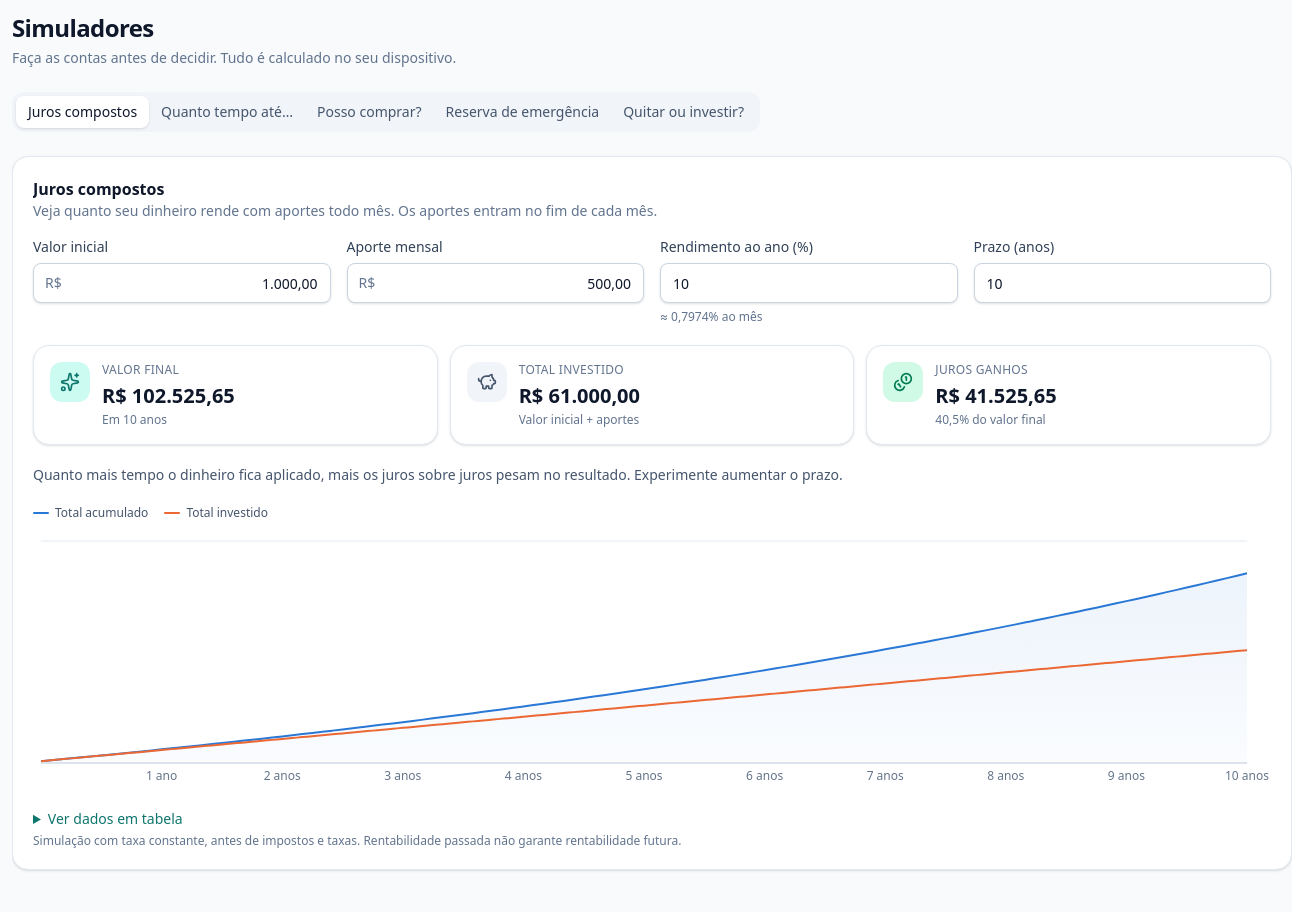
Test: SimulatorsPage › quanto tempo até…: meses até o objetivo e sugestão de aporte maior
Check: the heading "Simuladores" is shown, box [12,11,154,44]
Click the tab "Quanto tempo até…" at (227, 112), box [149,96,305,128]
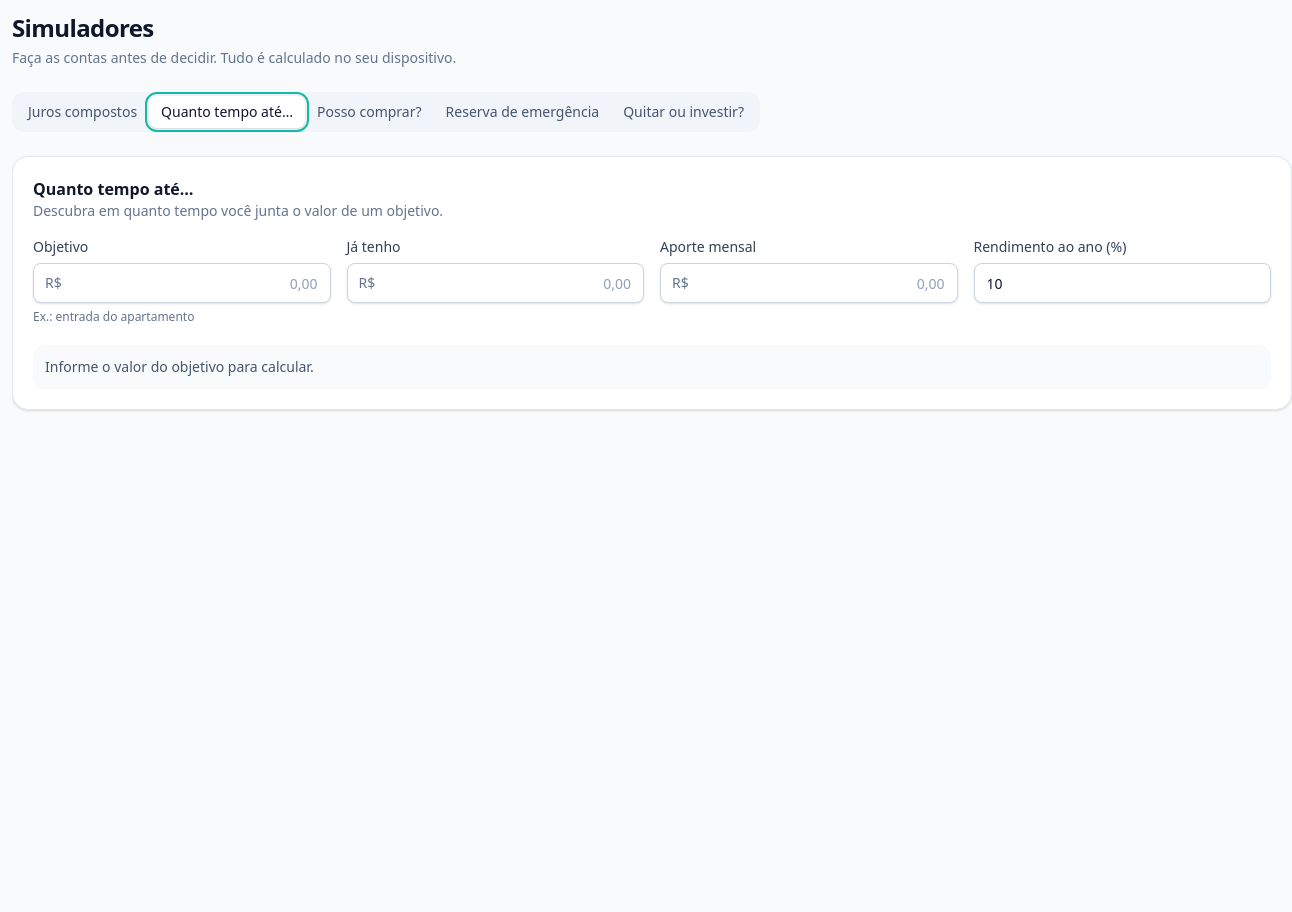
Check: the text "Informe o valor do objetivo para calcular." is shown, box [33,345,1271,389]
Type "12.000" into the field labelled "Objetivo" at (182, 283), box [33,263,330,303]
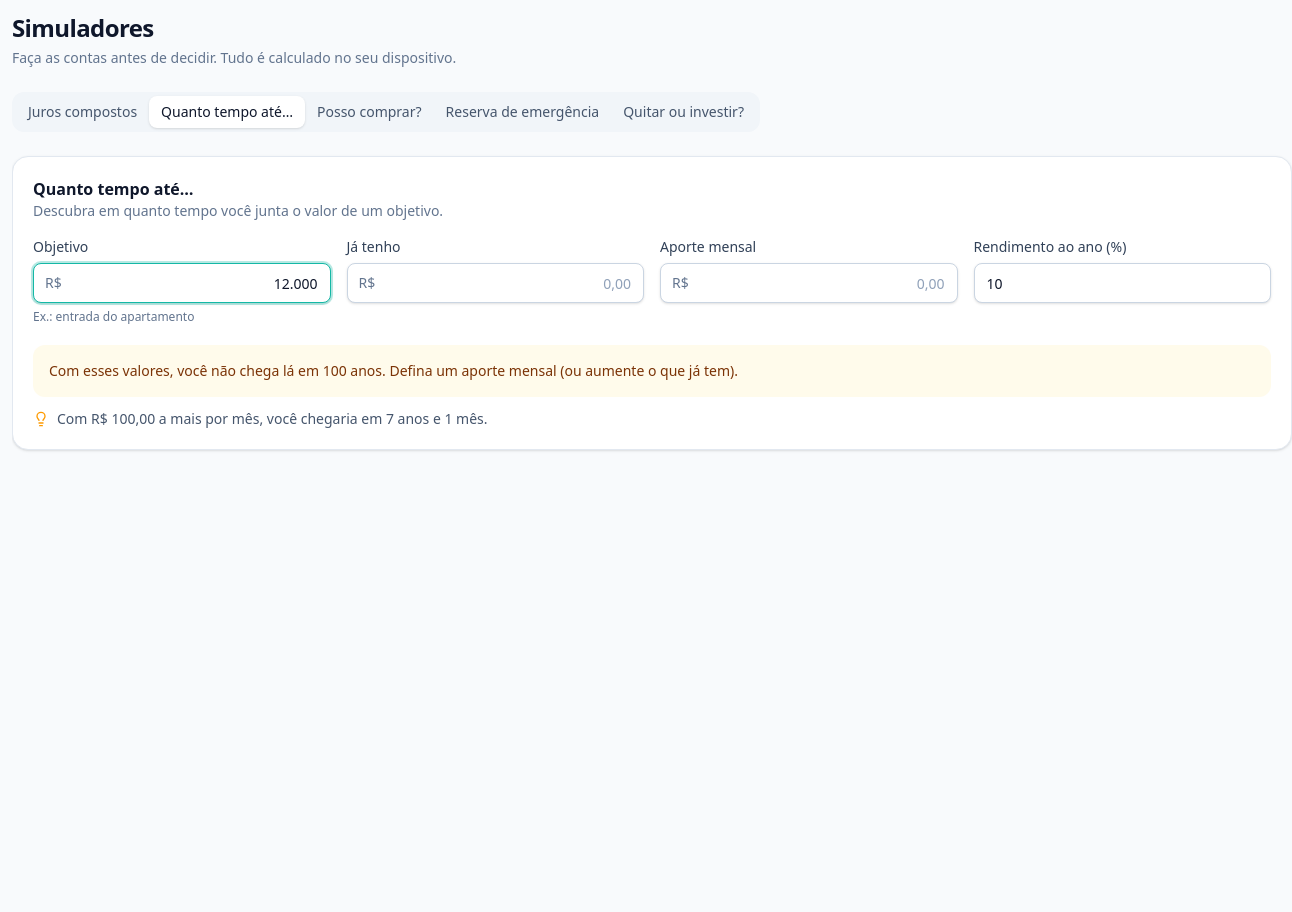
Check: the message shows "não chega lá em 100 anos", box [49,361,738,380]
Type "1.000" into the field labelled "Aporte mensal" at (809, 283), box [660,263,958,303]
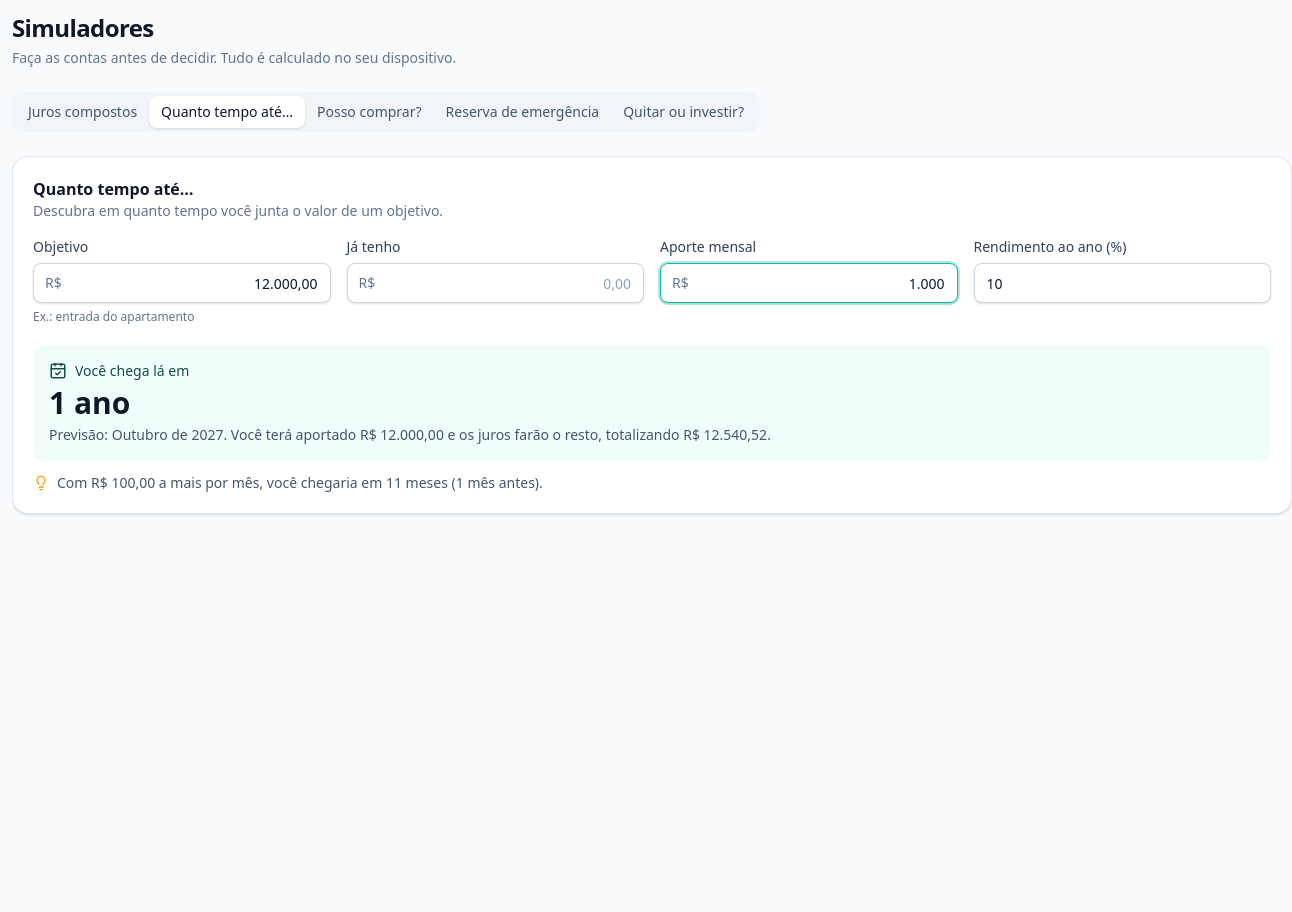
Replace the text in the field labelled "Rendimento ao ano (%)" with "0" at (1122, 283), box [974,263,1271,303]
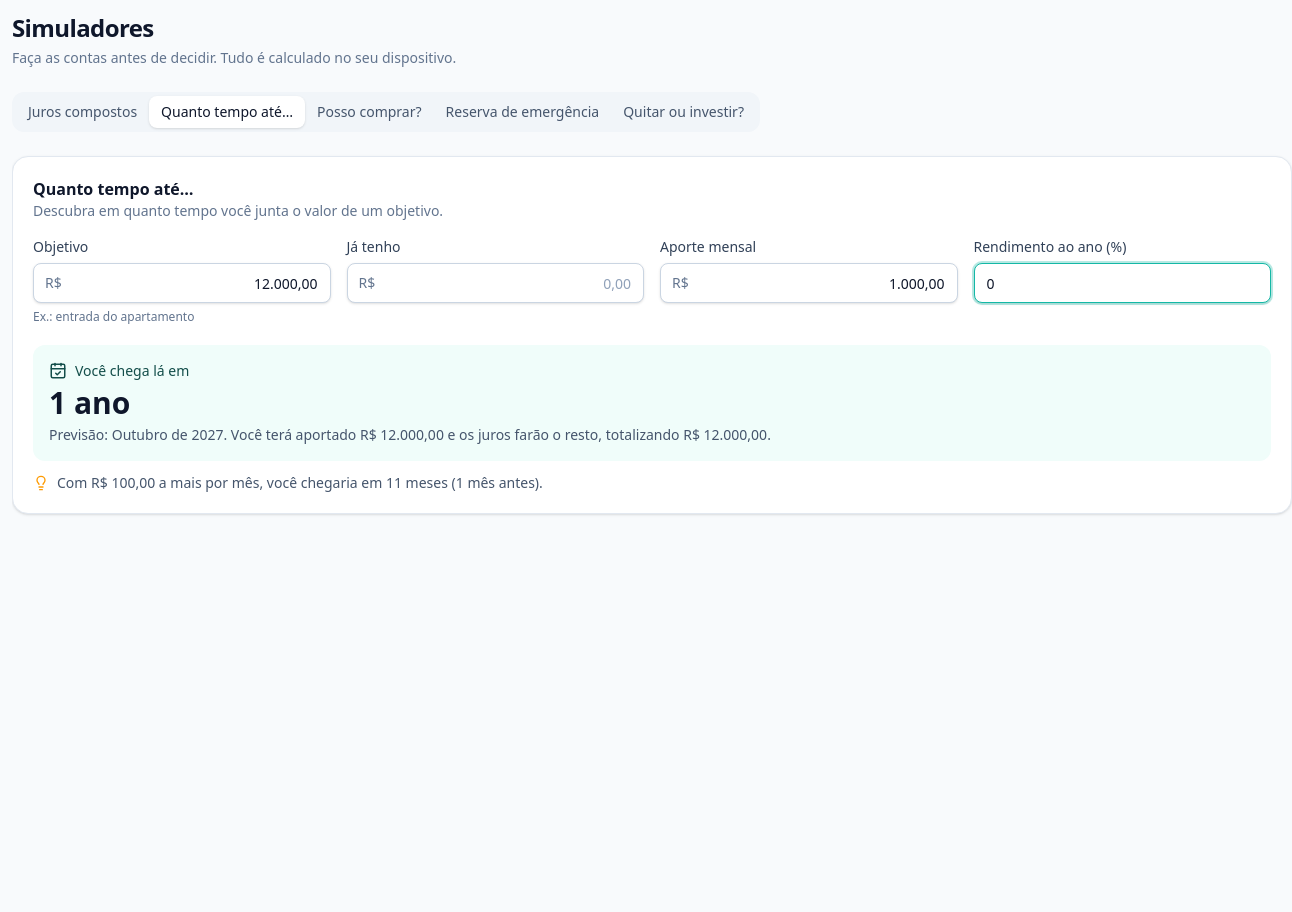
Check: the text "1 ano" is shown, box [49,382,130,423]
Check: the text "Previsão: Outubro de 2027" is shown, box [49,425,771,444]
Type "12.000" into the field labelled "Já tenho" at (495, 283), box [346,263,644,303]
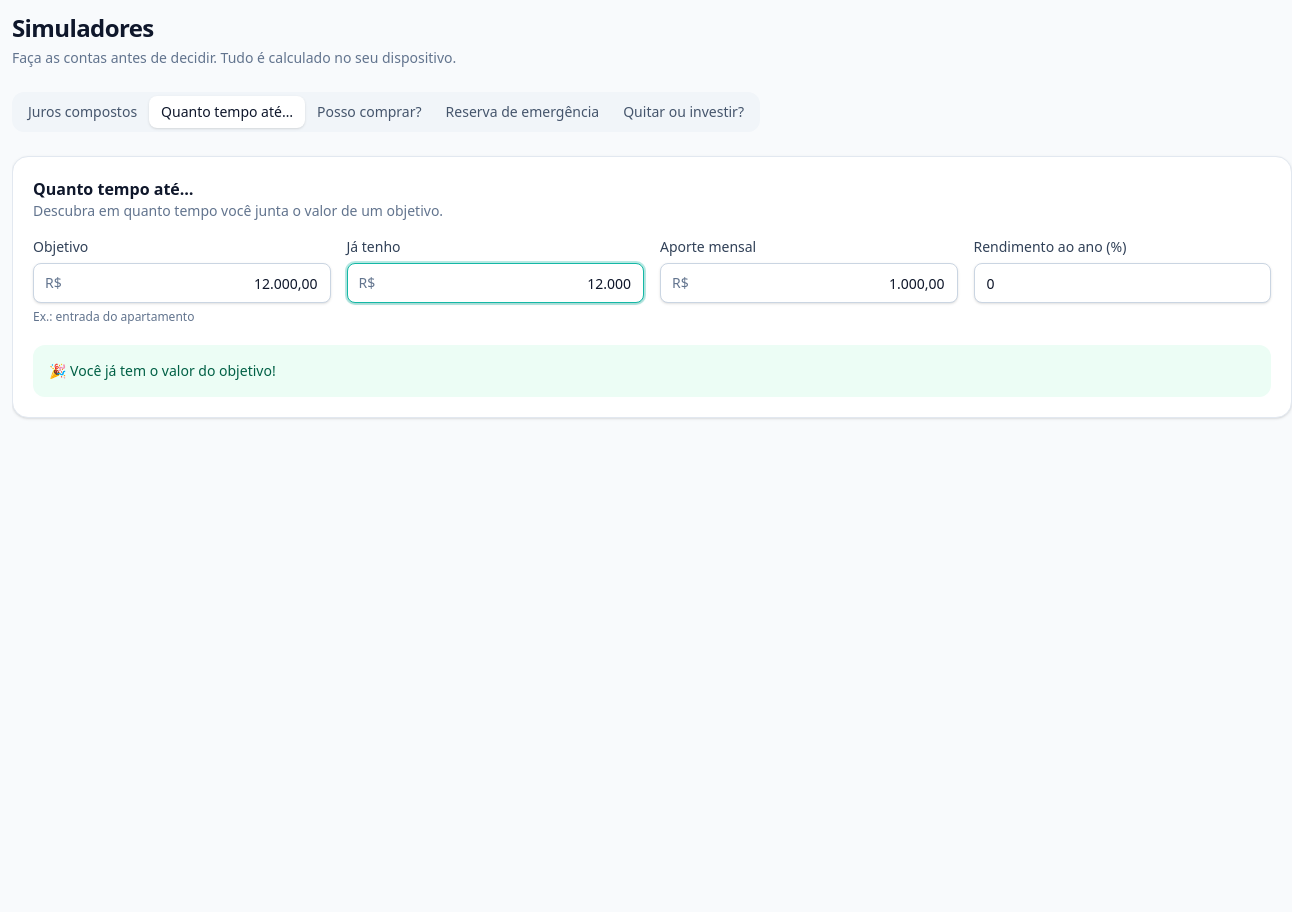
Check: the text "🎉 Você já tem o valor do objetivo!" is shown, box [33,345,1271,397]
